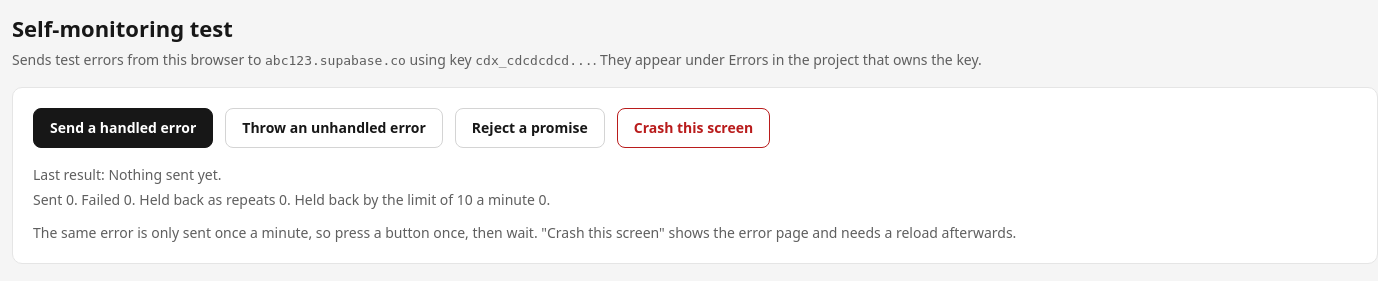
Test: self-monitoring test page › sends a handled error and shows the result
The width and height of the screenshot is (1378, 281).
Click the button "Send a handled error": (123,128) [33,108,213,148]
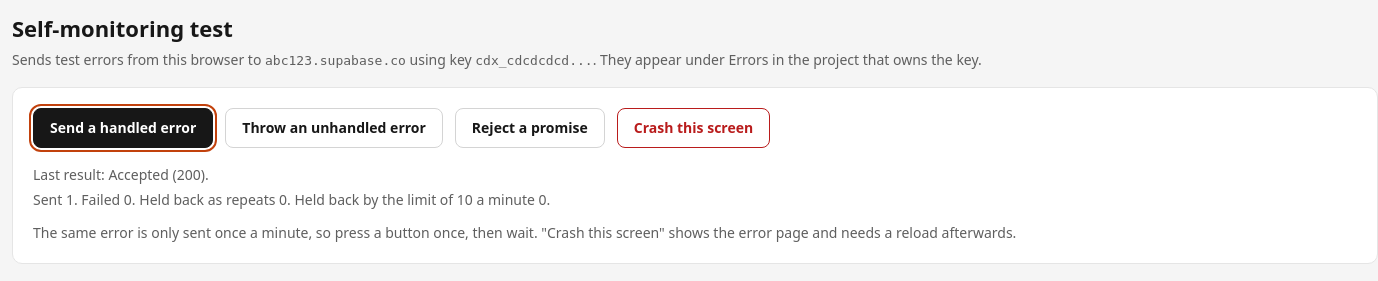
Expected: the text "Last result: Accepted (200)." is shown, [33,164,209,184]
